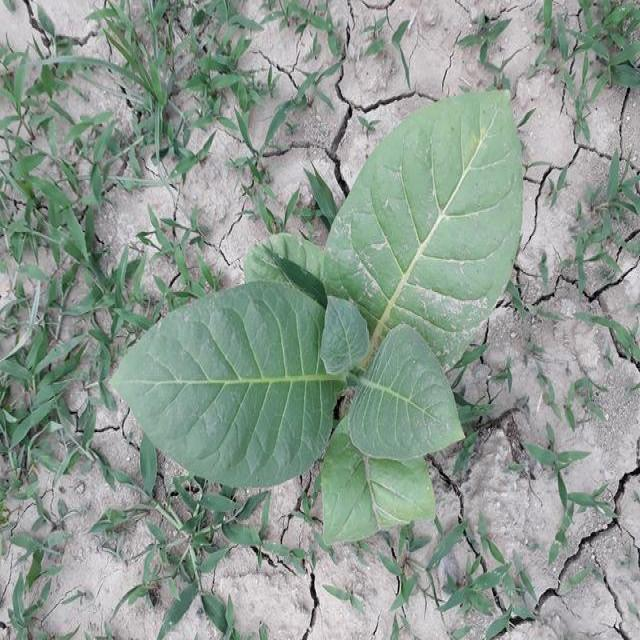crop: (104, 72, 532, 548)
